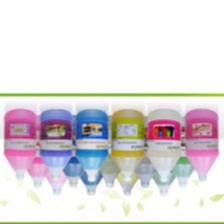cleaning_solution: (125, 114, 166, 189), (164, 114, 204, 190), (145, 106, 183, 183), (2, 107, 40, 183), (182, 107, 220, 183), (18, 113, 54, 191), (74, 107, 110, 183), (109, 107, 145, 183), (54, 115, 90, 191), (38, 107, 74, 182), (90, 115, 126, 190), (39, 133, 74, 200), (145, 133, 181, 198), (74, 133, 110, 197), (111, 133, 145, 199)
